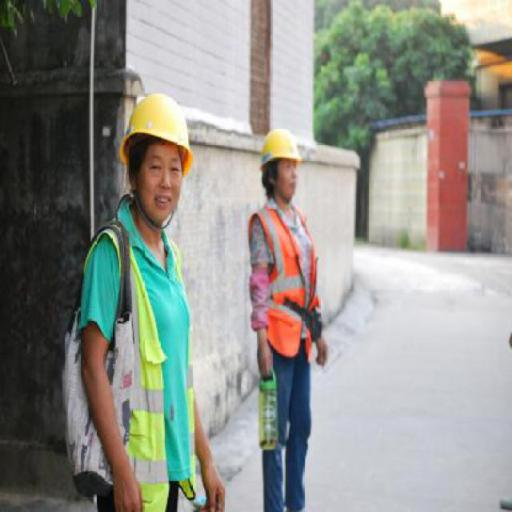hardhat: (116, 89, 198, 170), (258, 122, 310, 174)
person: (53, 82, 233, 512), (235, 116, 336, 511)
vest: (66, 222, 210, 504), (242, 203, 327, 364)
